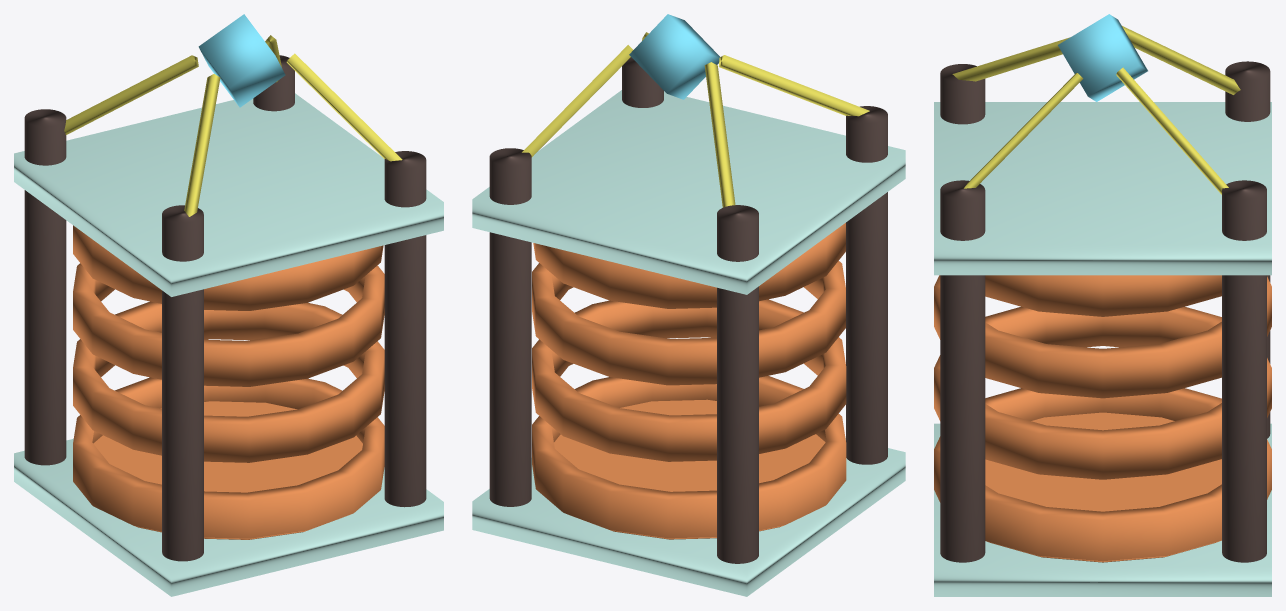
Rendered from TransmitterBlenderFbx.fbx.
3 views of the same model, side by side, from view 1: azimuth 30°, elevation 25°; view 2: azimuth 150°, elevation 25°; view 3: azimuth 270°, elevation 25° (orthographic). The views are drawn at different scales.
Parts seen in each view (by area): view 1: Circle, Cube_001, Cube, Cylinder, Cylinder_003, Cylinder_002, Cube_006, Cube_004, Cube_002, Cube_003, Cylinder_001; view 2: Circle, Cube_001, Cube, Cylinder_001, Cylinder_003, Cylinder_002, Cube_006, Cube_002, Cube_004, Cube_005, Cylinder; view 3: Circle, Cube_001, Cylinder, Cylinder_001, Cube, Cube_006, Cylinder_003, Cylinder_002, Cube_004, Cube_005, Cube_002, Cube_003.
Boxes of the visible parts, x1,y1,x2,y2 form: Circle: (73, 225, 384, 539); Cube_001: (14, 93, 443, 296); Cube: (14, 439, 443, 596); Cylinder: (384, 151, 426, 507); Cylinder_003: (24, 109, 66, 465); Cylinder_002: (162, 205, 203, 561); Cube_006: (198, 14, 285, 107); Cube_004: (64, 55, 198, 134); Cube_002: (184, 74, 220, 216); Cube_003: (286, 53, 402, 161); Cylinder_001: (253, 55, 294, 111); Circle: (532, 223, 846, 539); Cube_001: (472, 90, 905, 294); Cube: (472, 437, 905, 596); Cylinder_001: (489, 148, 531, 506); Cylinder_003: (717, 205, 758, 563); Cylinder_002: (846, 106, 887, 464); Cube_006: (629, 14, 720, 99); Cube_002: (719, 55, 869, 116); Cube_004: (704, 62, 735, 207); Cube_005: (522, 45, 632, 157); Cylinder: (622, 57, 663, 107); Circle: (934, 275, 1271, 562); Cube_001: (934, 102, 1271, 275); Cylinder: (940, 180, 985, 562); Cylinder_001: (1222, 180, 1266, 562); Cube: (934, 423, 1271, 596); Cube_006: (1058, 14, 1147, 101); Cylinder_003: (1225, 61, 1270, 438); Cylinder_002: (940, 64, 985, 124); Cube_004: (1122, 26, 1240, 94); Cube_005: (1116, 67, 1228, 194); Cube_002: (952, 37, 1070, 81); Cube_003: (964, 73, 1083, 188).
Size of the model in its own units: 2 by 3.4 by 2.
